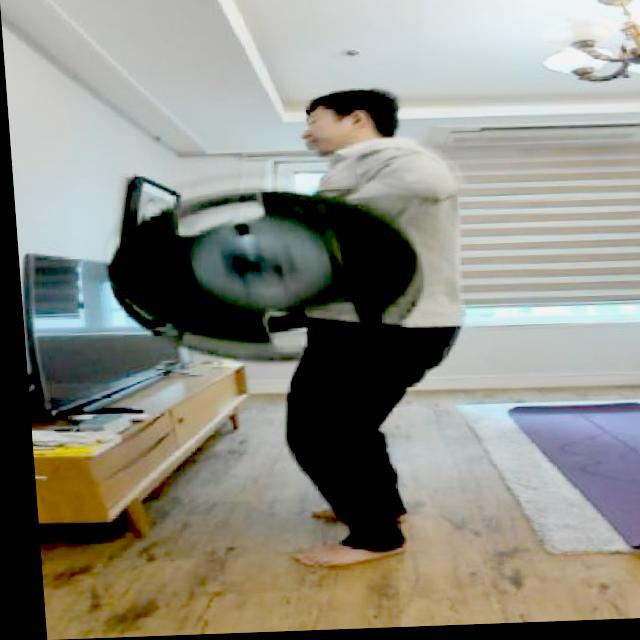barbell: (89, 182, 439, 366)
